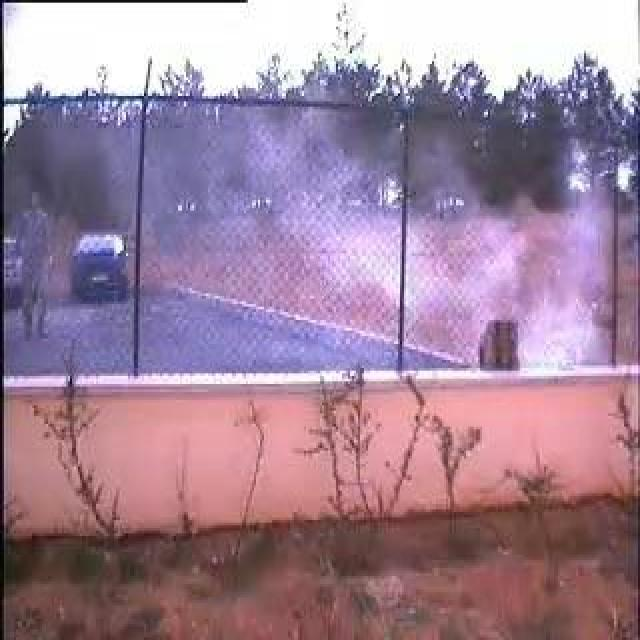Smoke: (263, 113, 569, 359)
